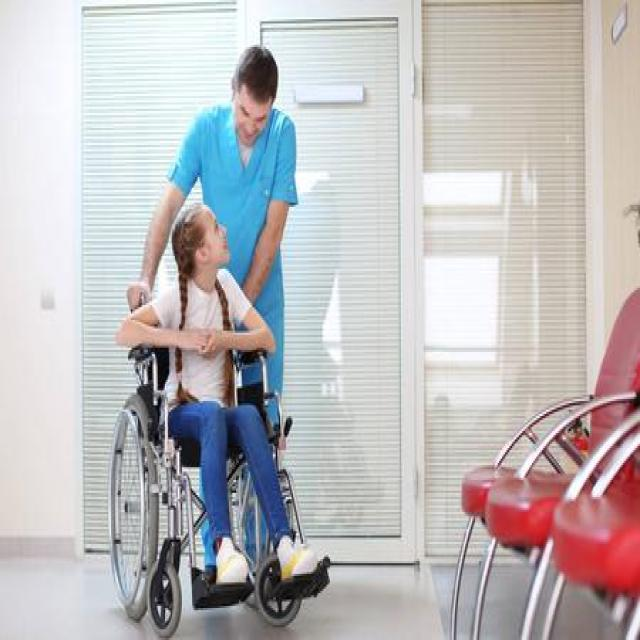wheelchairs: (96, 279, 320, 634)
